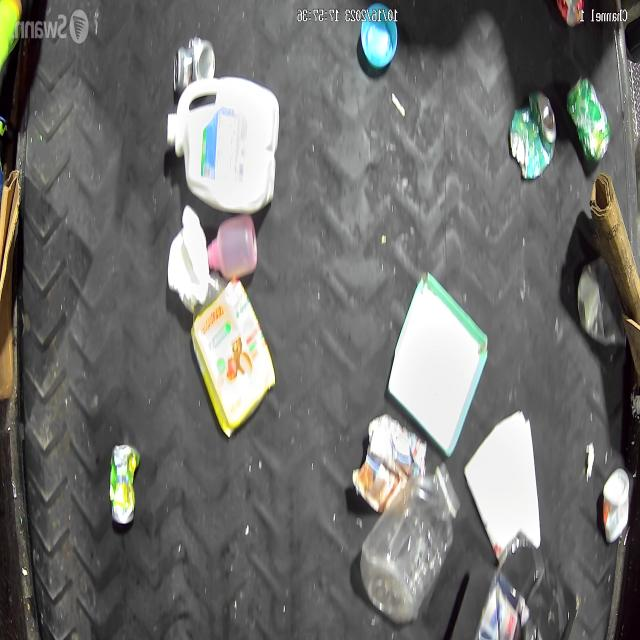can: (510, 87, 557, 181), (566, 76, 611, 164), (108, 443, 140, 525), (173, 36, 215, 93), (602, 468, 629, 543)
milk_jug: (166, 76, 279, 214)
non_white_jug: (190, 277, 276, 438)
plastic_bottle: (358, 462, 460, 626)
